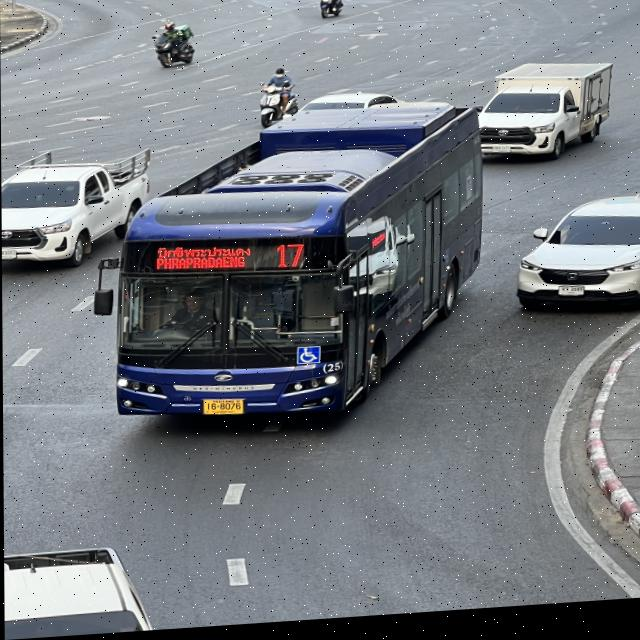Bus Line Number: (269, 244, 310, 279)
Bus Side Number: (312, 367, 346, 379)
Destination Sign: (146, 242, 255, 281)
TSB-Bus: (114, 103, 484, 425)
